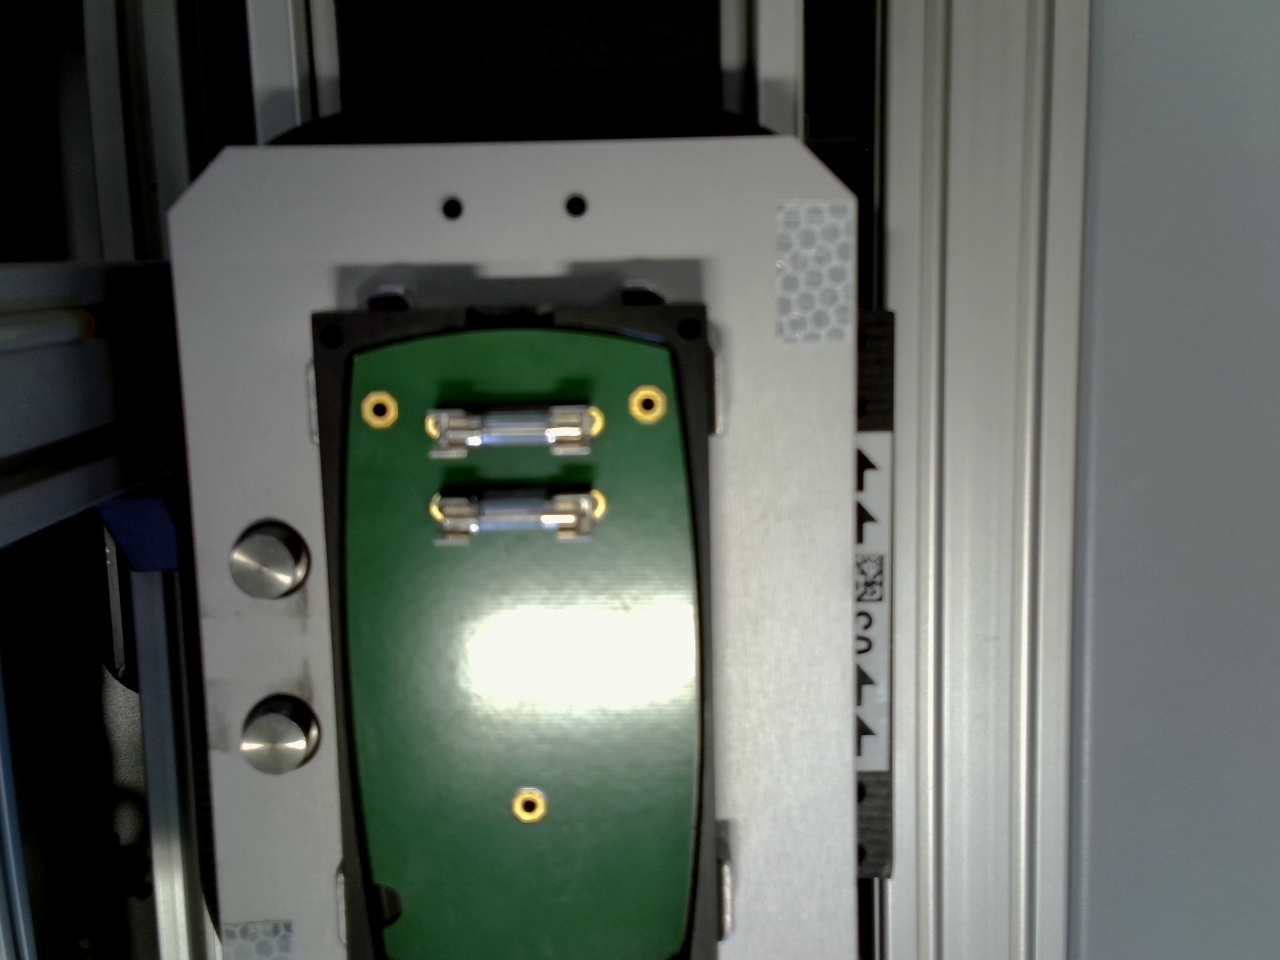Onefuse: (436, 403, 589, 456), (437, 496, 583, 539)
